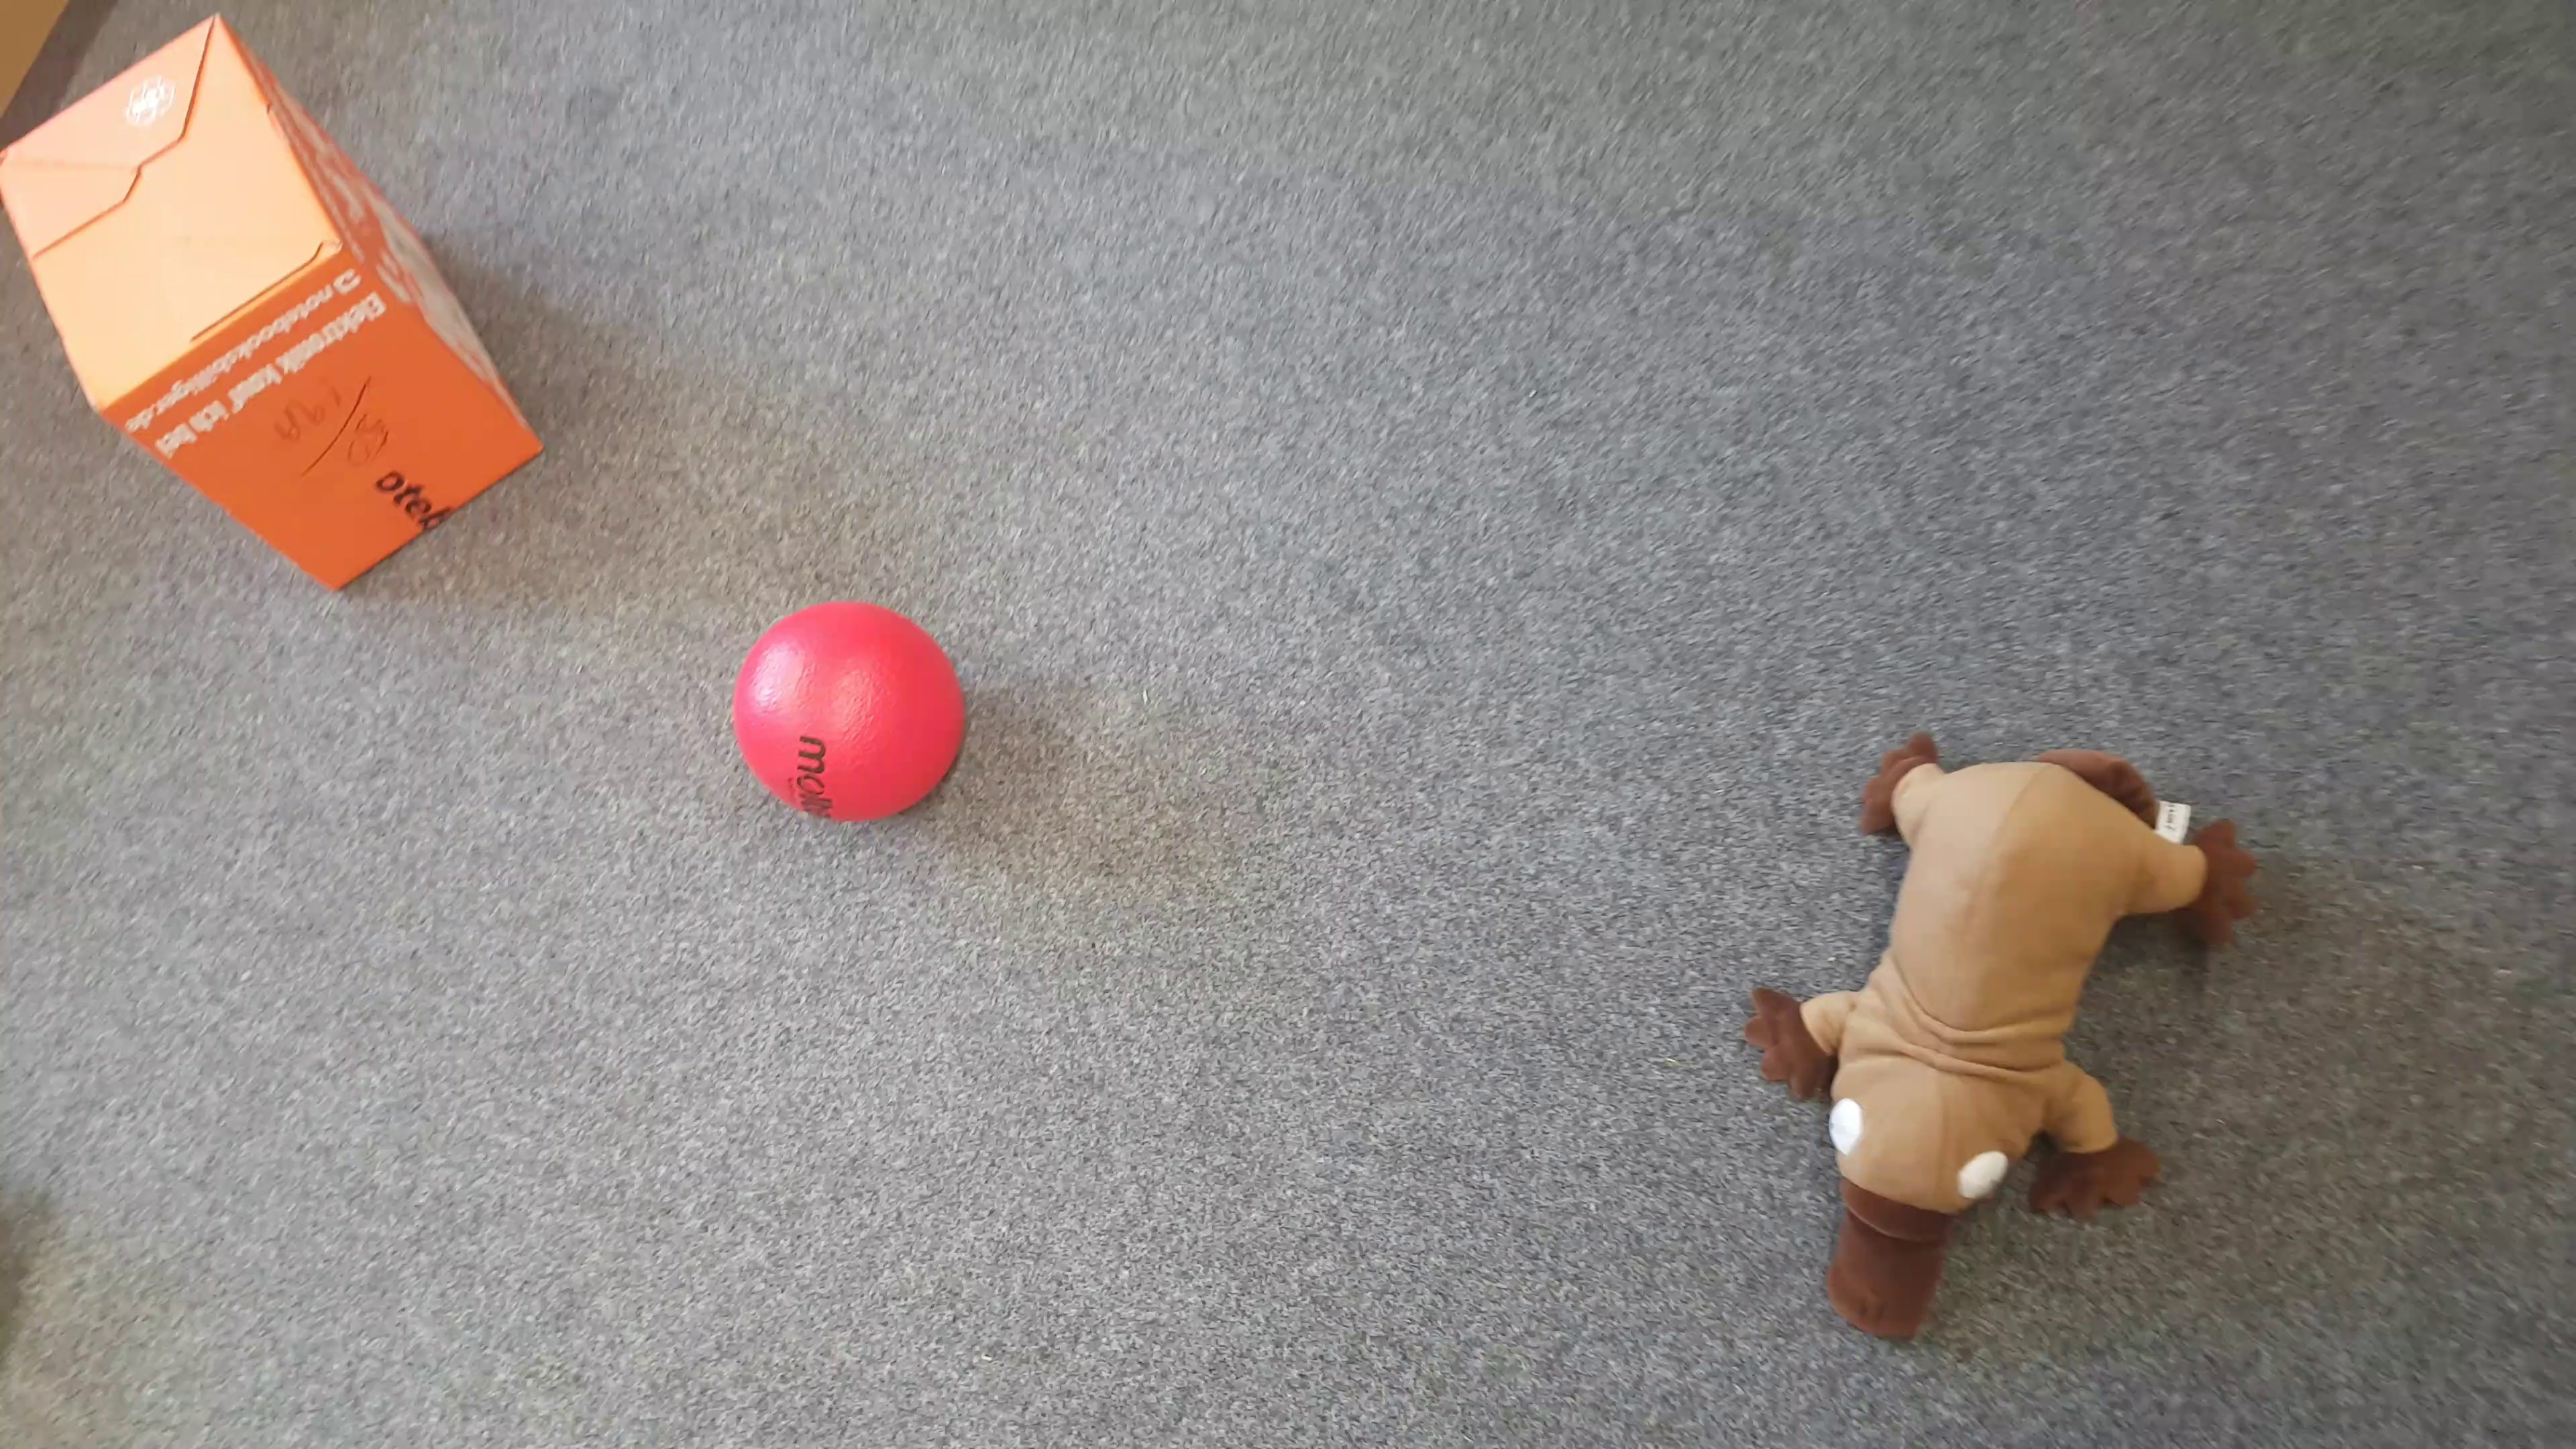grasp: (1750, 736, 2265, 1343)
kick: (736, 600, 968, 830)
push: (5, 11, 547, 600)
